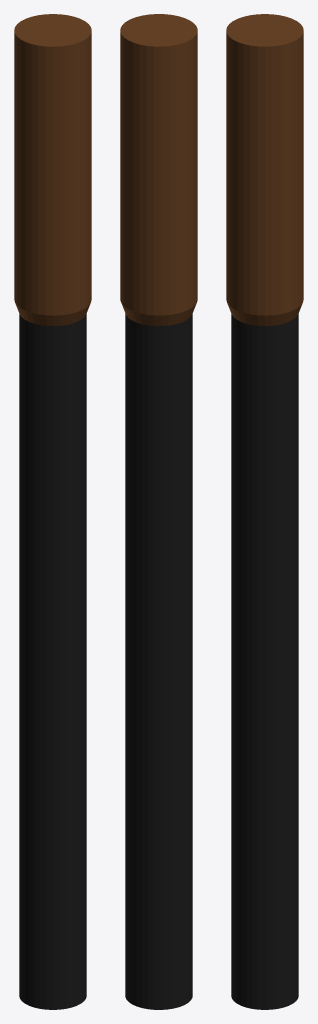
The model's file is lever.glb.
The picture shows the model from 3 angles, left to right: view 1: azimuth 90°, elevation 25°; view 2: azimuth 150°, elevation 25°; view 3: azimuth 270°, elevation 25°; orthographic projection.
Parts seen in each view (by area): view 1: Cylinder; view 2: Cylinder; view 3: Cylinder.
Part boxes in pixels (x1,y1,x2,y2): Cylinder: (14, 14, 91, 1009); Cylinder: (120, 14, 197, 1009); Cylinder: (226, 14, 303, 1009).
Size of the model in its own units: 0.2296 by 3.15 by 0.2296.
